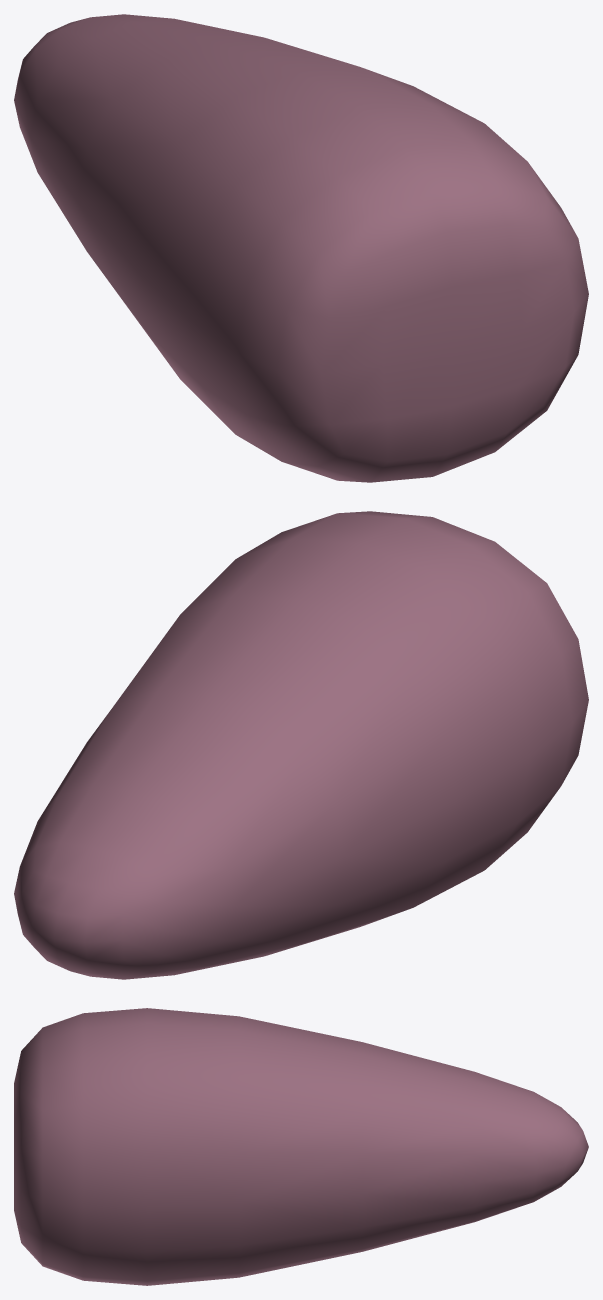
Rendered from SM_WormTail.fbx.
3 renders of one model, top to bottom at view 1: azimuth 30°, elevation 25°; view 2: azimuth 150°, elevation 25°; view 3: azimuth 270°, elevation 25°, orthographic. The views are drawn at different scales.
Parts seen in each view (by area): view 1: SM_WormTail; view 2: SM_WormTail; view 3: SM_WormTail.
Boxes of the visible parts, <box> form: SM_WormTail: <box>14,14,588,482</box>; SM_WormTail: <box>14,511,588,979</box>; SM_WormTail: <box>14,1008,588,1285</box>.
Bounding box in the file's own units: 159 × 153 × 323.
